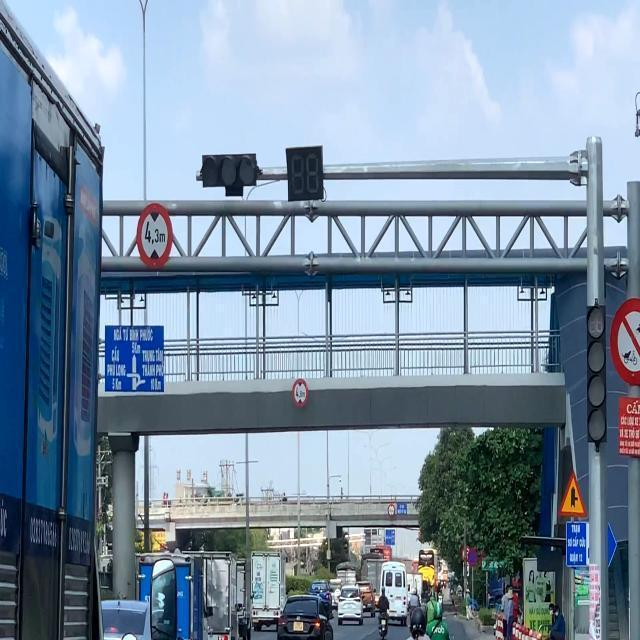207-giao-nhau-voi-duong-khong-uu-tien: (557, 469, 587, 518)
